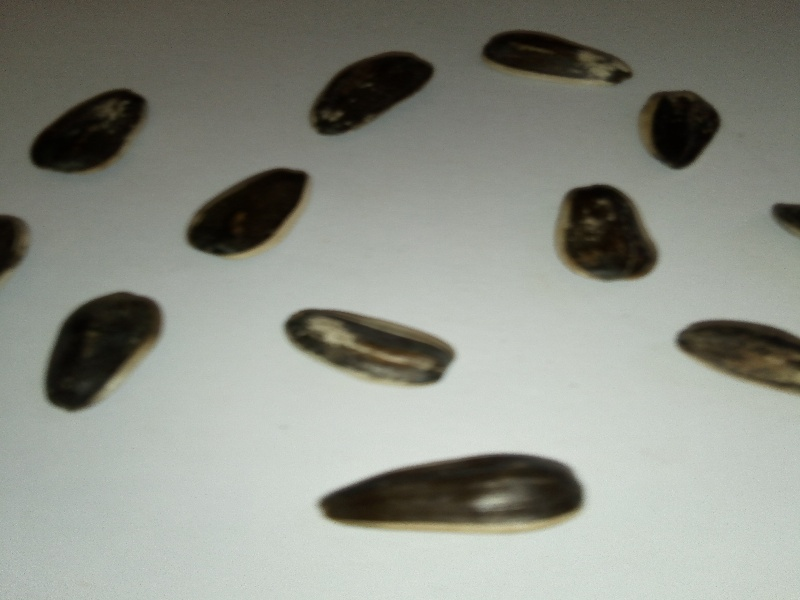girasol: (313, 444, 587, 538), (269, 301, 462, 393), (39, 286, 169, 418), (548, 175, 663, 286)
